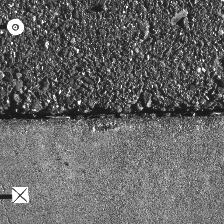circle: (7, 18, 24, 35)
crack: (1, 107, 223, 122)
square: (12, 187, 28, 203)
